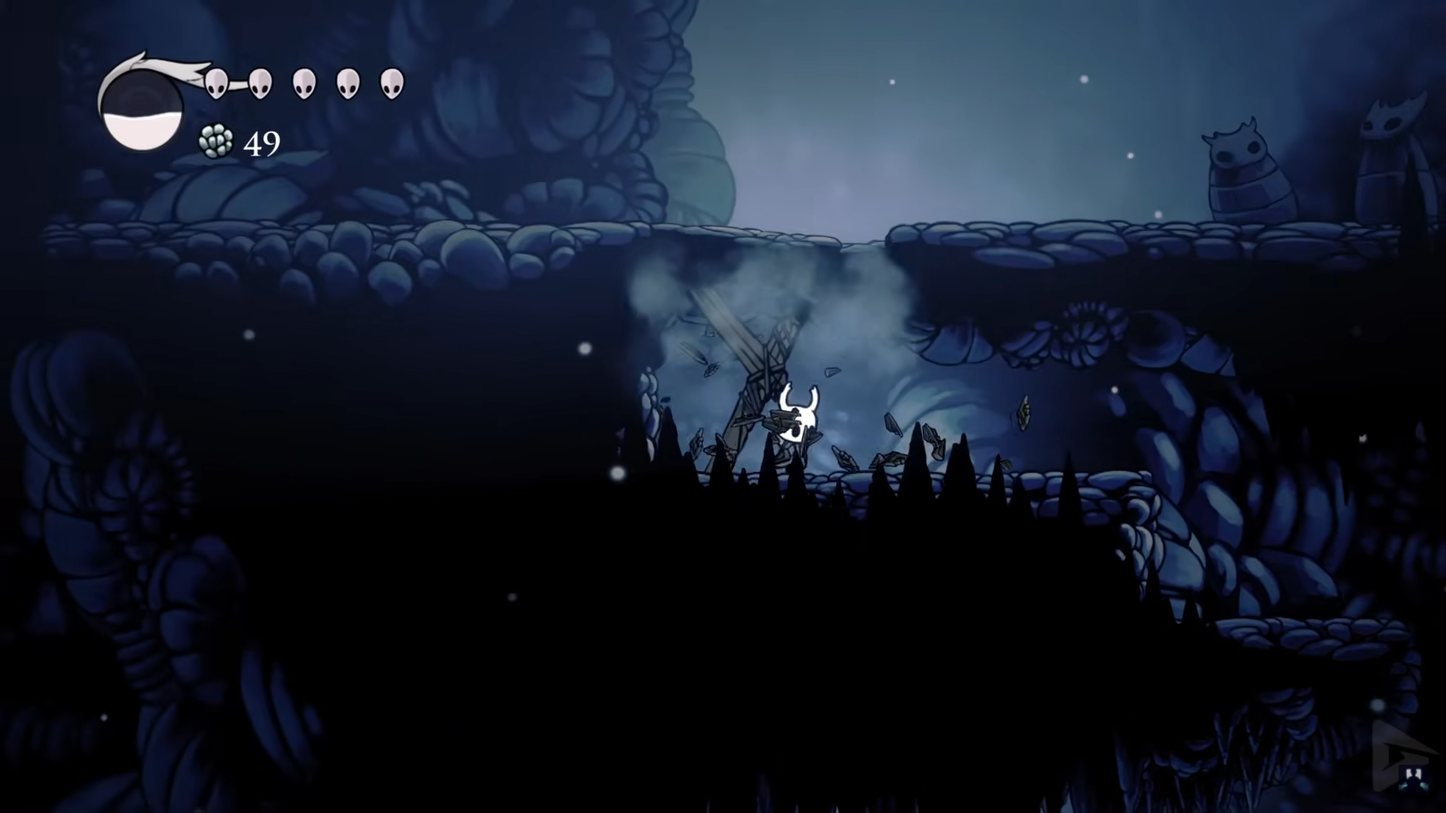HK: (774, 381, 822, 472)
